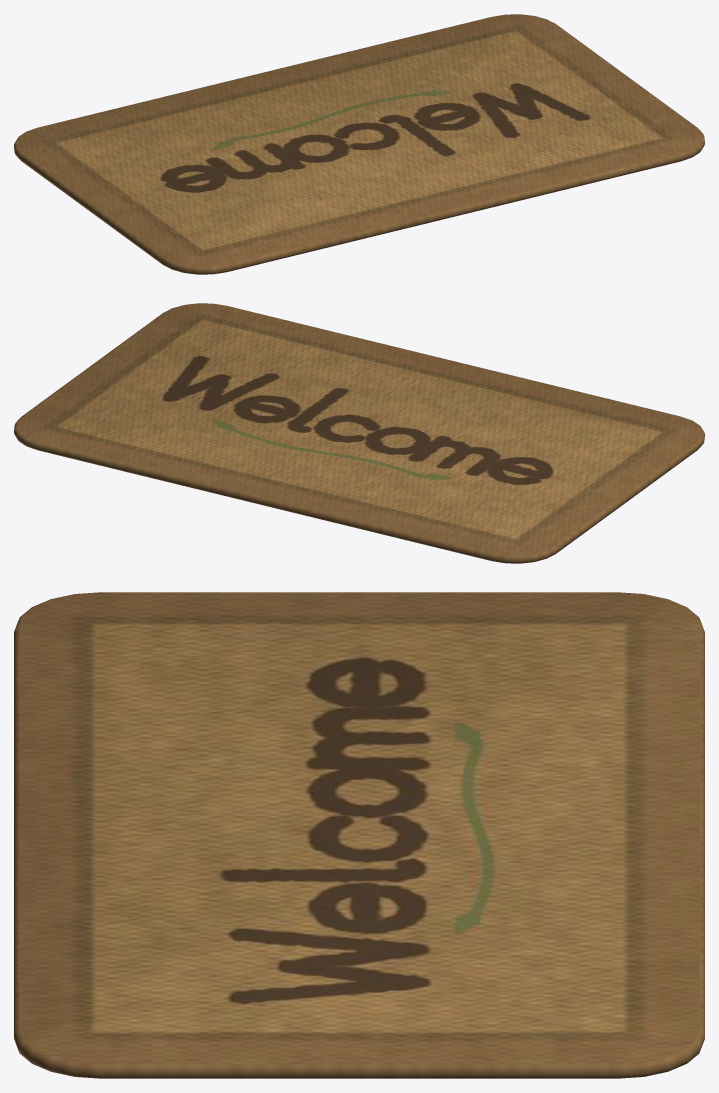
Rendered from welcome-mat.glb.
3 views of the same model, one above another, from view 1: azimuth 30°, elevation 25°; view 2: azimuth 150°, elevation 25°; view 3: azimuth 270°, elevation 25° (orthographic). The views are drawn at different scales.
Visible parts, largest first — view 1: welcome-mat; view 2: welcome-mat; view 3: welcome-mat.
Part boxes in pixels (<box>): welcome-mat: <box>14,14,704,274</box>; welcome-mat: <box>14,303,704,563</box>; welcome-mat: <box>14,592,704,1078</box>.
Size of the model in its own units: 1.55 by 0.022 by 0.95.
1 material, 1 textured.
